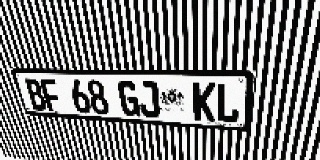6: (68, 79, 92, 114)
8: (85, 80, 110, 115)
B: (23, 78, 48, 111)
F: (39, 79, 64, 112)
G: (117, 80, 141, 117)
J: (137, 81, 160, 118)
K: (193, 82, 216, 122)
L: (216, 83, 241, 123)
